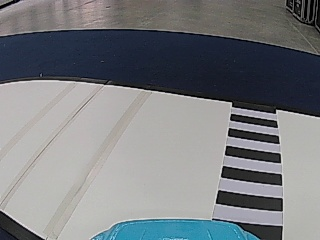CrossWalk: (209, 104, 284, 223)
